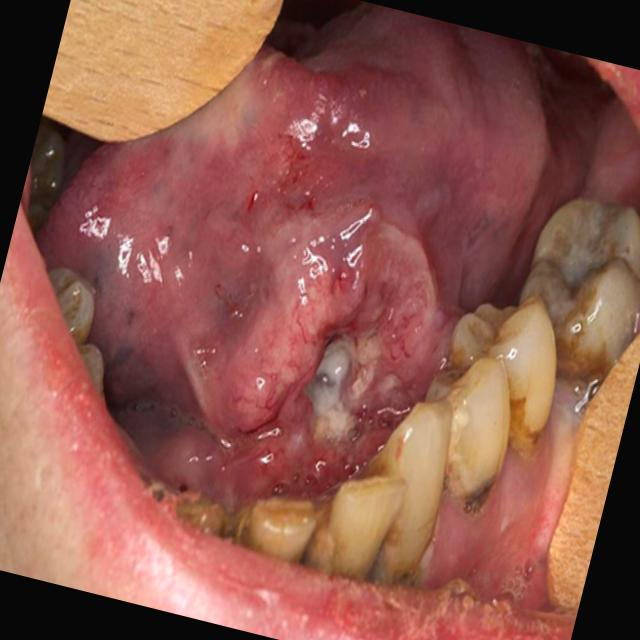Cancer: (181, 118, 471, 488)
